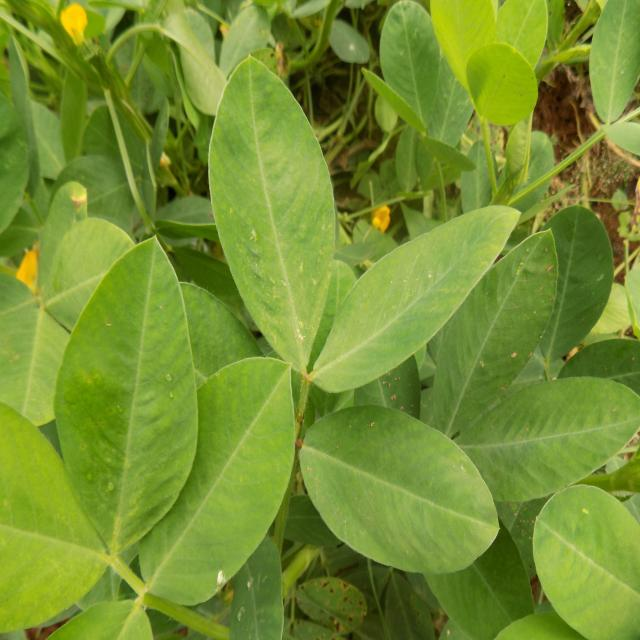Ground nut_healthy: (52, 239, 196, 571), (208, 60, 339, 389), (131, 358, 298, 609), (313, 201, 518, 390), (295, 400, 501, 574), (451, 376, 640, 501), (537, 202, 616, 382)
